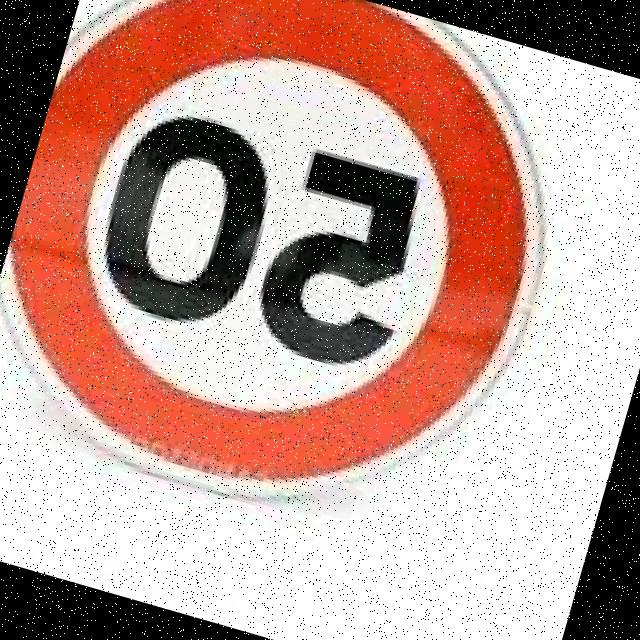speed_limit_50: (0, 0, 611, 577)
